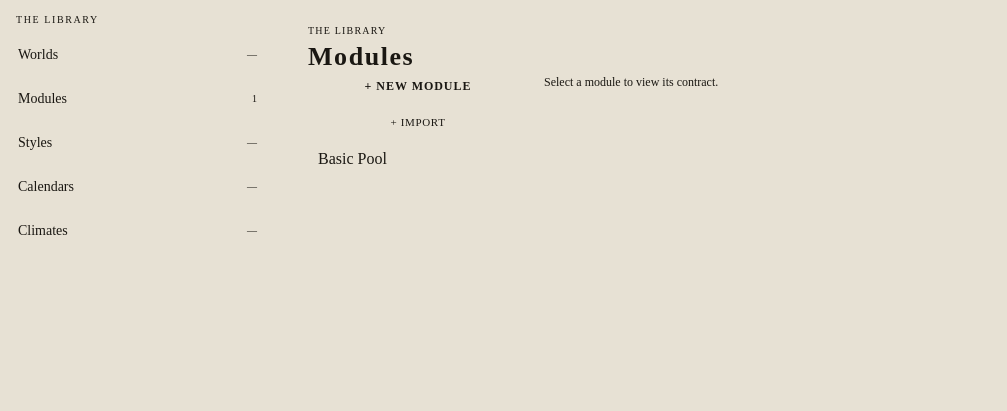
it: renders valid sheet types and the Problems section without throwing on a broken pack
Click the link "Basic Pool".
click(352, 159)  # box [318, 150, 387, 167]
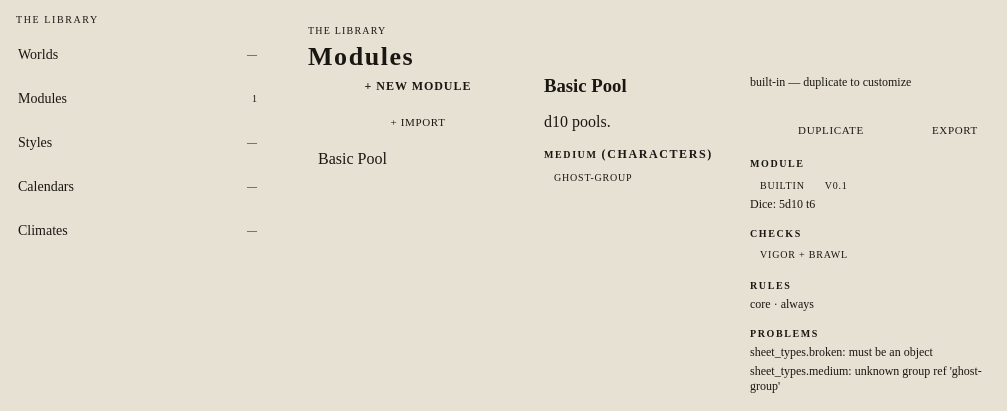
Check: the heading "Medium (characters)" is shown, box [544, 147, 730, 162]
Check: the text "ghost-group" is shown, box [554, 172, 632, 183]
Check: the heading "Problems" is shown, box [750, 328, 819, 339]
